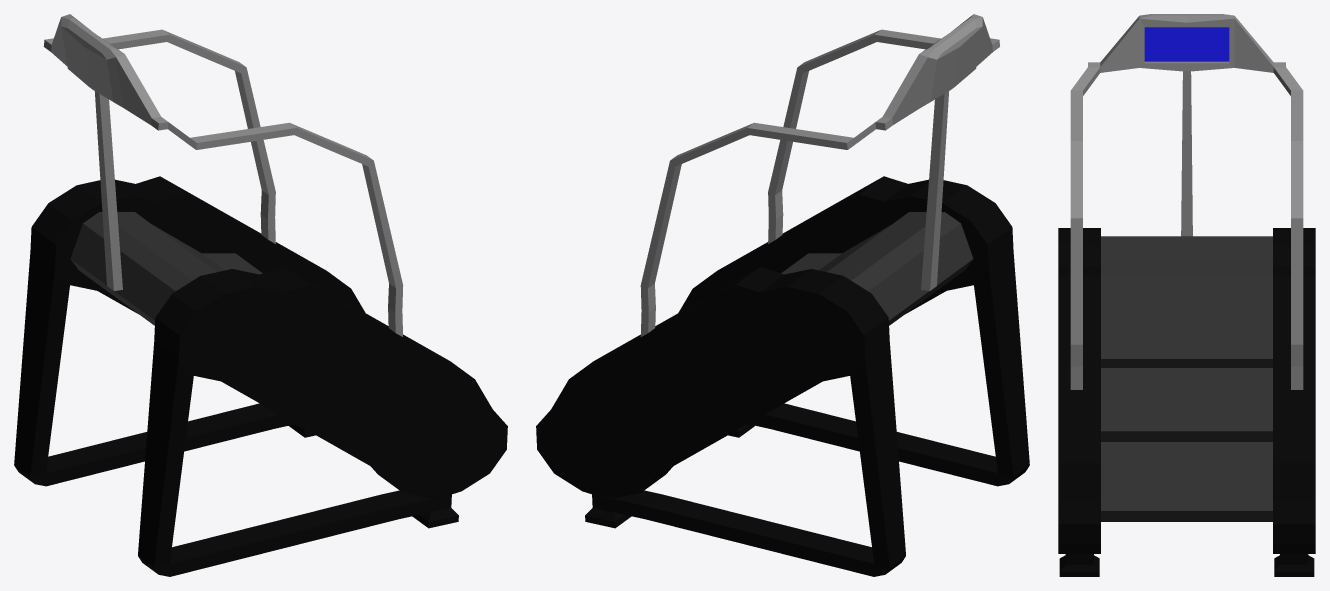
Rendered from StairClimber.001.fbx.
3 renders of one model, left to right at view 1: azimuth 30°, elevation 25°; view 2: azimuth 150°, elevation 25°; view 3: azimuth 270°, elevation 25°, orthographic. The views are drawn at different scales.
Parts seen in each view (by area): view 1: StairClimber.001; view 2: StairClimber.001; view 3: StairClimber.001.
Part boxes in pixels (<box>): StairClimber.001: <box>14,14,507,576</box>; StairClimber.001: <box>536,14,1029,576</box>; StairClimber.001: <box>1058,14,1315,576</box>.
Size of the model in its own units: 129 by 178 by 94.83.
